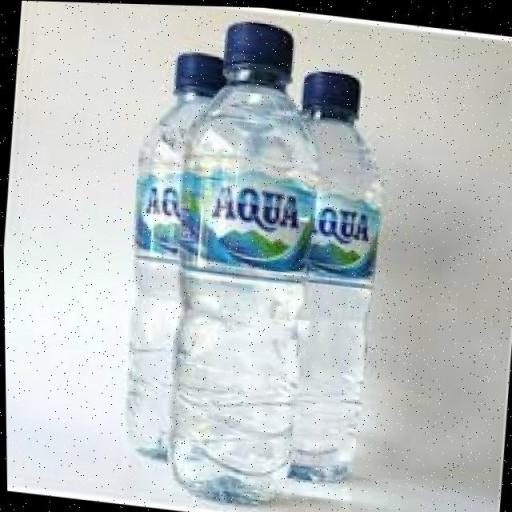plastic: (146, 5, 351, 512), (270, 51, 403, 512), (102, 33, 240, 467)
